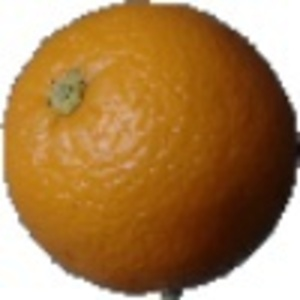laranja: (4, 2, 295, 296)
